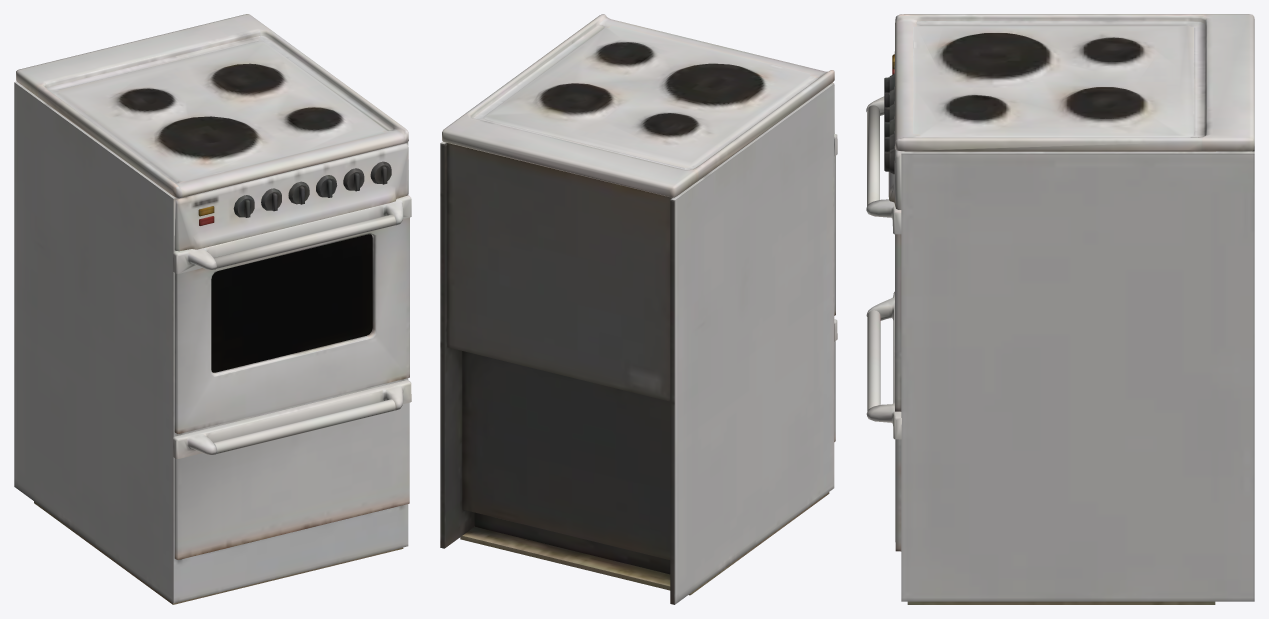
Rendered from electric_stove.glb.
3 views of the same model, side by side, from view 1: azimuth 30°, elevation 25°; view 2: azimuth 150°, elevation 25°; view 3: azimuth 270°, elevation 25° (orthographic). The views are drawn at different scales.
Visible parts, largest first — view 1: stovetop, door_top; view 2: stovetop; view 3: stovetop.
Boxes of the visible parts, left/top/right/bottom form: stovetop: left=14, top=14, right=411, bottom=604; door_top: left=211, top=234, right=372, bottom=372; stovetop: left=440, top=14, right=837, bottom=604; stovetop: left=866, top=14, right=1254, bottom=604.
Size of the model in its own units: 0.5026 by 0.8586 by 0.6476.
Materials: 2 (2 with a texture image).
